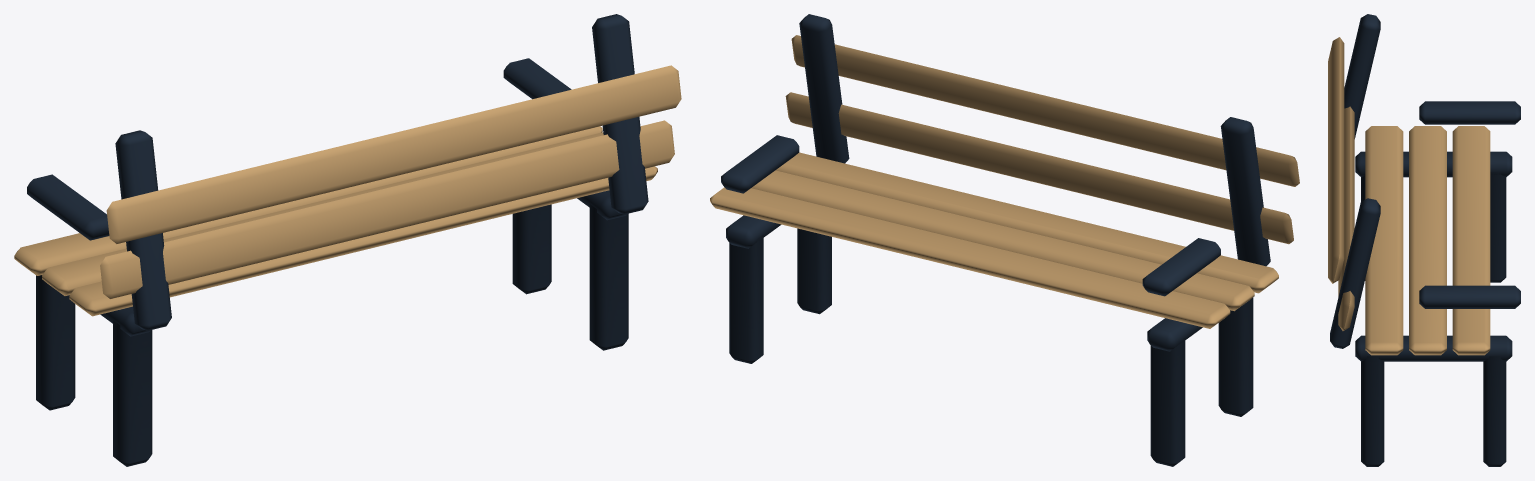
Rendered from bench.glb.
3 views of the same model, side by side, from view 1: azimuth 30°, elevation 25°; view 2: azimuth 150°, elevation 25°; view 3: azimuth 270°, elevation 25° (orthographic). The views are drawn at different scales.
Parts seen in each view (by area): view 1: Body; view 2: Body; view 3: Body.
Part boxes in pixels (x1,y1,x2,y2): Body: [14, 14, 681, 466]; Body: [710, 14, 1299, 466]; Body: [1328, 14, 1520, 466].
Bounding box in the file's own units: 1.8 × 0.9921 × 0.6639.
1 material, 1 textured.
